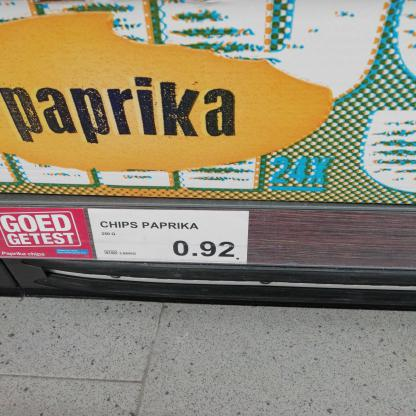prtg: (88, 209, 250, 265)
